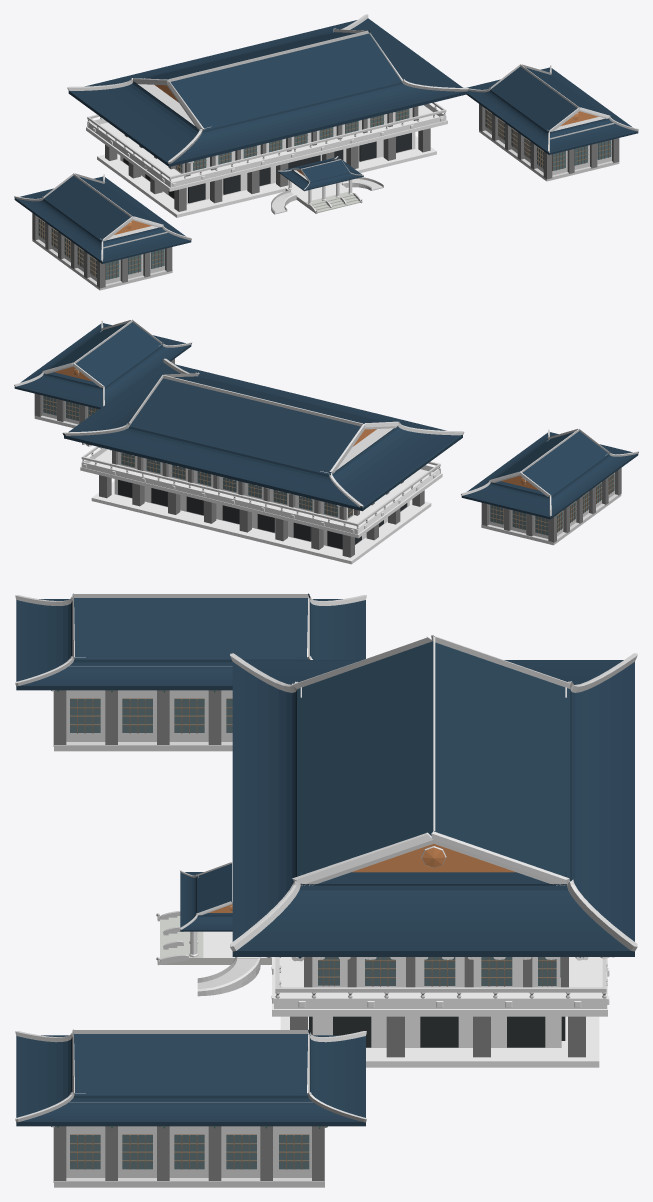
The model's file is chengwadae.fbx.
The picture shows the model from 3 angles, top to bottom: view 1: azimuth 30°, elevation 25°; view 2: azimuth 150°, elevation 25°; view 3: azimuth 270°, elevation 25°; orthographic projection. The views are drawn at different scales.
Visible parts, largest first — view 1: Roof.001, Base, Roof.002, Roof.003, 1F_Pillar, Cube.002, Cube.007, Roof, 1F_Window, 2F_Window.001, 2F_Window.002, 2F_Handrail (+6 smaller); view 2: Roof.001, Base, Roof.002, Roof.003, 1F_Pillar, 1F_Window, 2F_Window, Cube.007, 2F_Handrail, 2F_Window.001, Cube.001, 2F_Pillar (+3 smaller); view 3: Roof.001, Roof.003, Roof.002, Base, Cube.003, 2F_Window.002, Cube.001, Cube.002, 2F_Window, 2F_Window.001, 1F_Window, Roof (+6 smaller).
Boxes of the visible parts, x1=… form: Roof.001: x1=67, y1=14, x2=468, y2=166; Base: x1=86, y1=103, x2=447, y2=217; Roof.002: x1=14, y1=173, x2=191, y2=263; Roof.003: x1=462, y1=64, x2=638, y2=154; 1F_Pillar: x1=105, y1=128, x2=430, y2=211; Cube.002: x1=479, y1=104, x2=619, y2=179; Cube.007: x1=32, y1=213, x2=172, y2=288; Roof: x1=278, y1=156, x2=363, y2=191; 1F_Window: x1=123, y1=133, x2=411, y2=203; 2F_Window.001: x1=38, y1=218, x2=164, y2=279; 2F_Window.002: x1=485, y1=109, x2=611, y2=170; 2F_Handrail: x1=87, y1=102, x2=446, y2=179; Roof.001: x1=62, y1=358, x2=464, y2=511; Base: x1=80, y1=448, x2=442, y2=564; Roof.002: x1=461, y1=428, x2=638, y2=519; Roof.003: x1=14, y1=319, x2=191, y2=409; 1F_Pillar: x1=99, y1=475, x2=424, y2=557; 1F_Window: x1=118, y1=479, x2=407, y2=549; 2F_Window: x1=121, y1=453, x2=353, y2=517; Cube.007: x1=481, y1=468, x2=621, y2=542; 2F_Handrail: x1=81, y1=446, x2=440, y2=526; 2F_Window.001: x1=490, y1=473, x2=614, y2=535; Cube.001: x1=481, y1=472, x2=621, y2=545; 2F_Pillar: x1=112, y1=450, x2=403, y2=519; Roof.001: x1=230, y1=635, x2=637, y2=956; Roof.003: x1=15, y1=1029, x2=366, y2=1126; Roof.002: x1=15, y1=593, x2=366, y2=690; Base: x1=271, y1=957, x2=609, y2=1067; Cube.003: x1=54, y1=1102, x2=324, y2=1187; 2F_Window.002: x1=70, y1=1134, x2=309, y2=1169; Cube.001: x1=54, y1=666, x2=232, y2=751; Cube.002: x1=53, y1=1126, x2=324, y2=1182; 2F_Window: x1=318, y1=957, x2=560, y2=986; 2F_Window.001: x1=70, y1=698, x2=232, y2=733; 1F_Window: x1=309, y1=1016, x2=565, y2=1047; Roof: x1=179, y1=862, x2=232, y2=931.
Size of the model in its own units: 7201 by 1331 by 3614.
